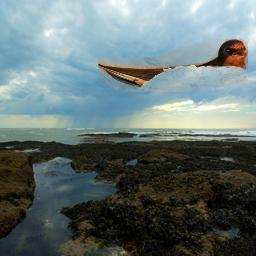Swallow: (98, 38, 248, 92)
